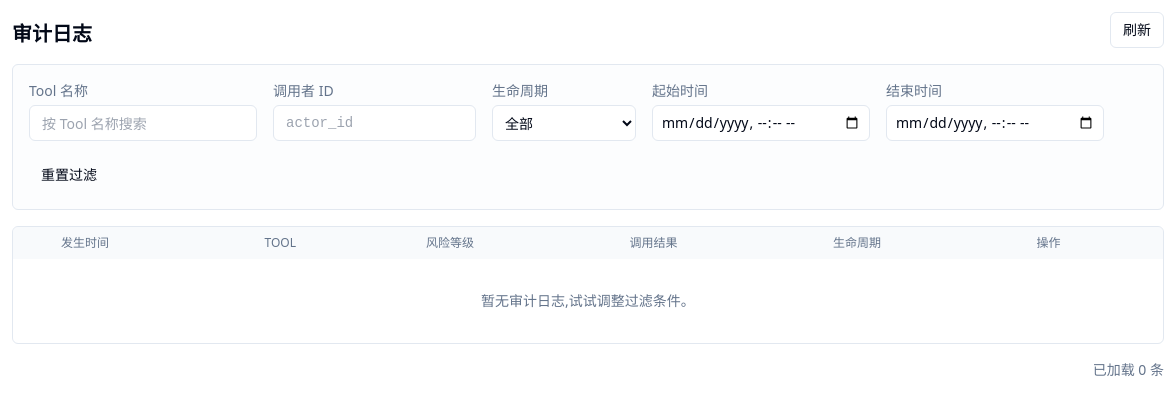
Test: AuditLogsTable › sends the tool_name filter to the API as ?tool_name=
Expected: the cell with test id "empty-state" is shown, x1=13 y1=259 x2=1163 y2=343
Type "purge" into the search field labelled "Tool 名称". click: (143, 123)
box: x1=29 y1=105 x2=257 y2=141
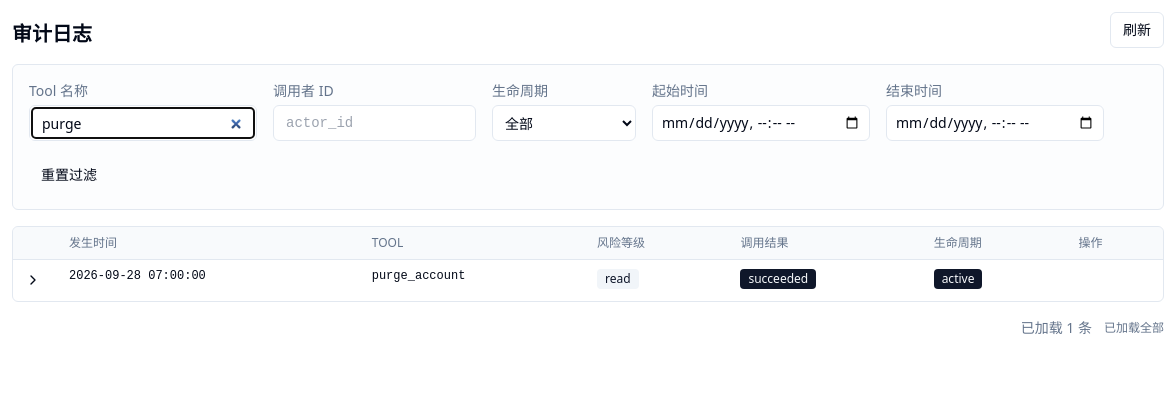
Result: the row with test id "audit-log-row-t1" is shown at x1=13 y1=260 x2=1163 y2=301
